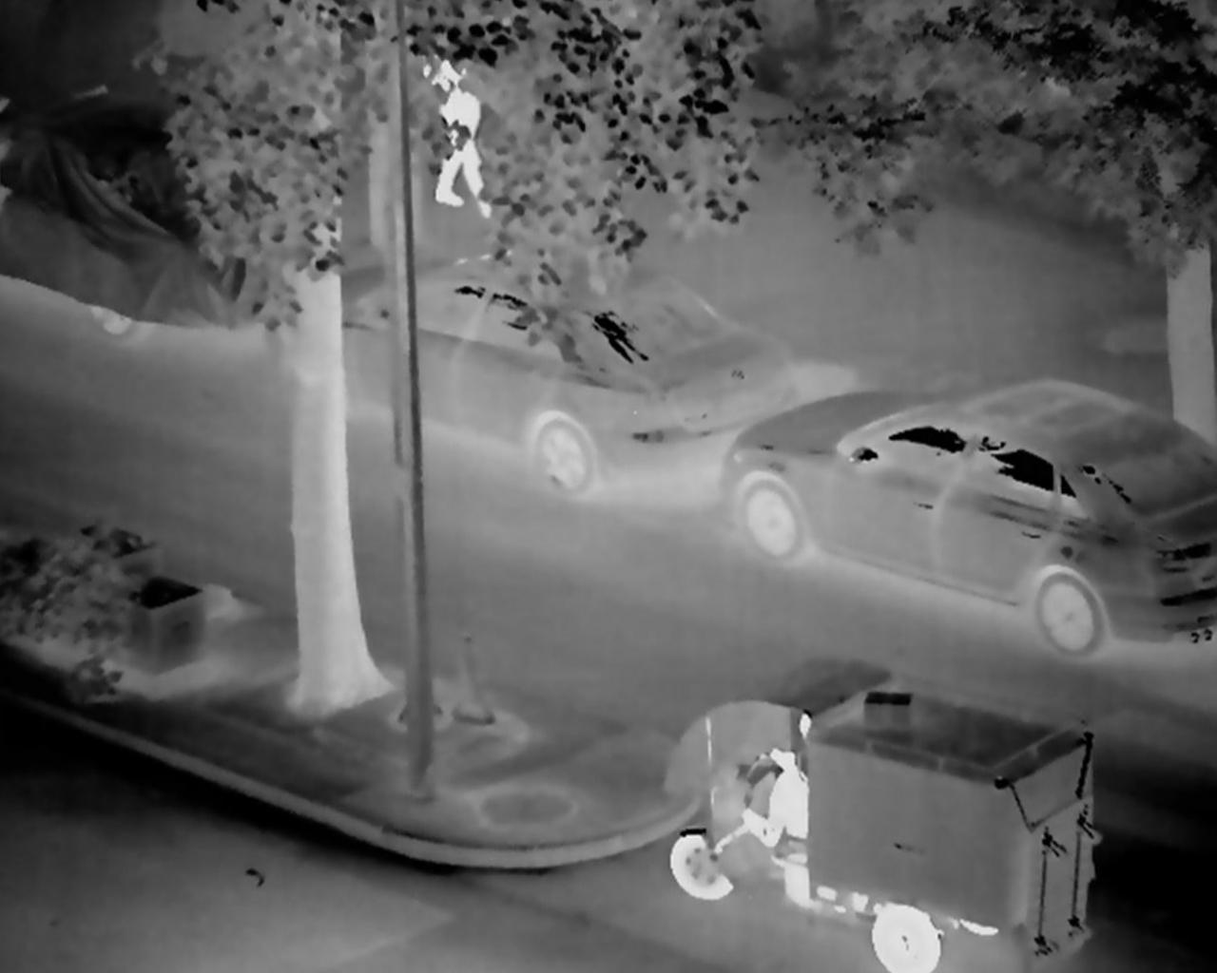person: (416, 31, 494, 221), (734, 748, 810, 853)
